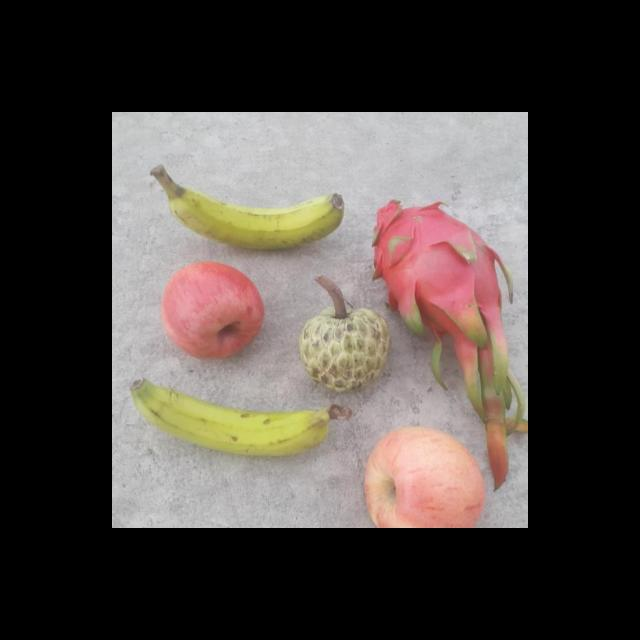Sakya fruit: (298, 303, 391, 397)
apple: (356, 425, 486, 528), (158, 260, 264, 364)
banana: (146, 162, 348, 254), (127, 378, 336, 458)
pitaya: (370, 200, 528, 462)
